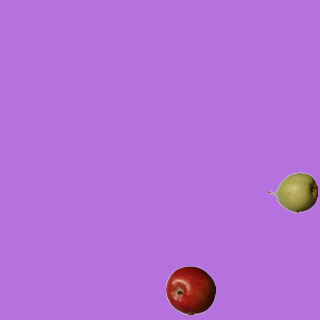Apple Braeburn: (165, 265, 215, 315)
Pear: (267, 167, 317, 217)
